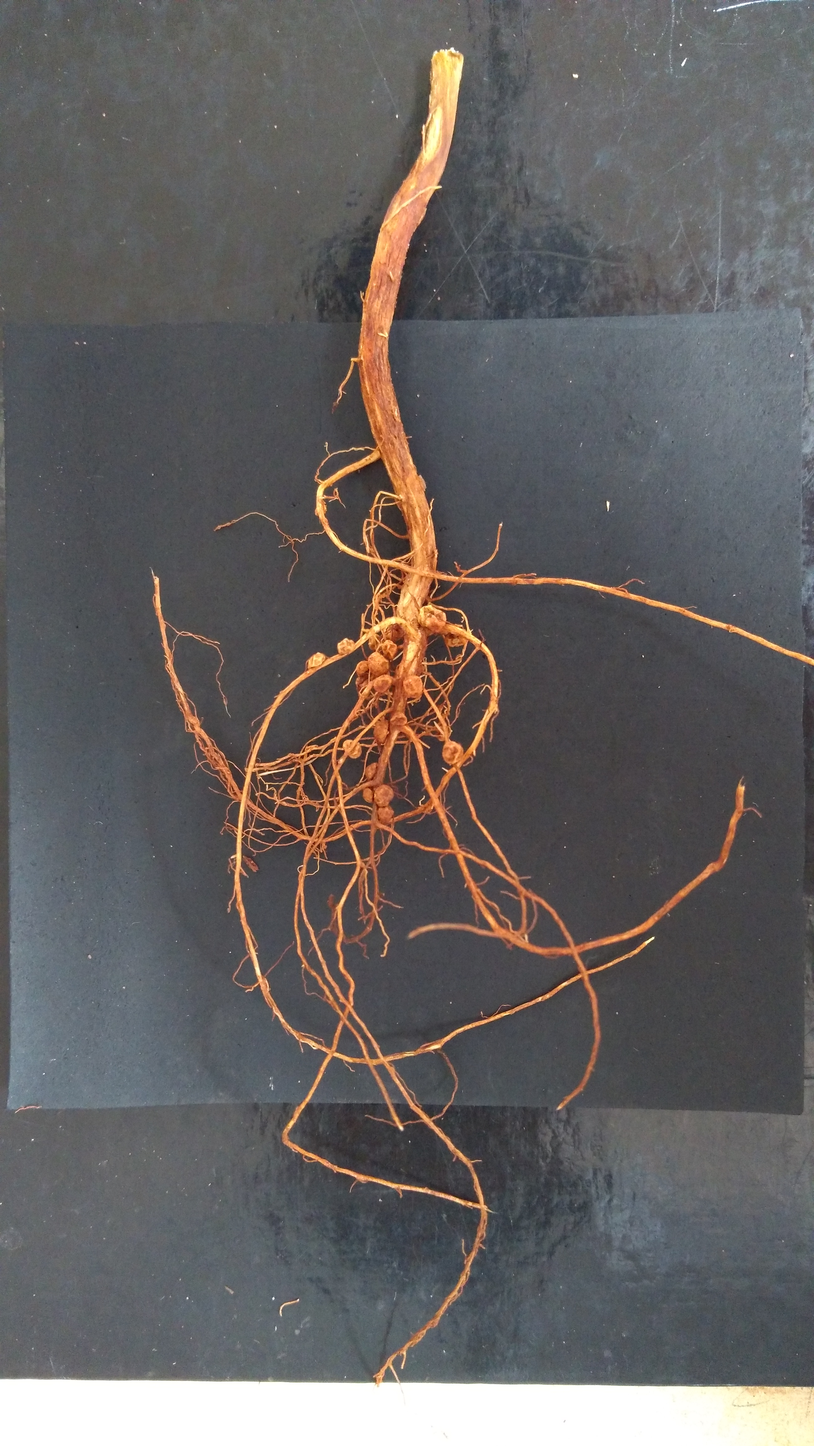nodule: (417, 605, 446, 632), (383, 617, 404, 643), (444, 624, 467, 647), (368, 652, 389, 677), (402, 675, 423, 699), (442, 741, 463, 764), (374, 784, 394, 807), (342, 739, 362, 759), (373, 720, 389, 744), (307, 652, 326, 670), (374, 674, 392, 693), (377, 805, 394, 825), (356, 673, 374, 691), (337, 638, 356, 655), (382, 640, 397, 660), (368, 633, 384, 650), (406, 626, 421, 643), (390, 711, 407, 726), (365, 763, 377, 782), (435, 727, 450, 741), (356, 660, 368, 677), (363, 787, 374, 804), (188, 716, 200, 730), (416, 475, 426, 491), (315, 504, 327, 516), (422, 805, 433, 814), (417, 664, 424, 676), (338, 758, 343, 764)
